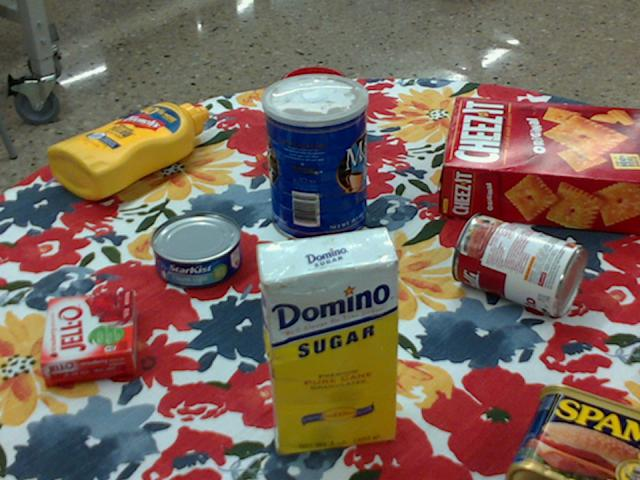cracker_box: (440, 96, 639, 235)
gelatin_box: (42, 292, 138, 390)
master_chef_can: (262, 73, 369, 244)
mug: (277, 66, 365, 160)
mustard_bottle: (46, 102, 208, 199)
potted_meat_can: (508, 381, 639, 479)
sugar_box: (253, 225, 397, 458)
tomato_soup_can: (454, 213, 589, 315)
tuna_fish_can: (149, 213, 241, 289)
